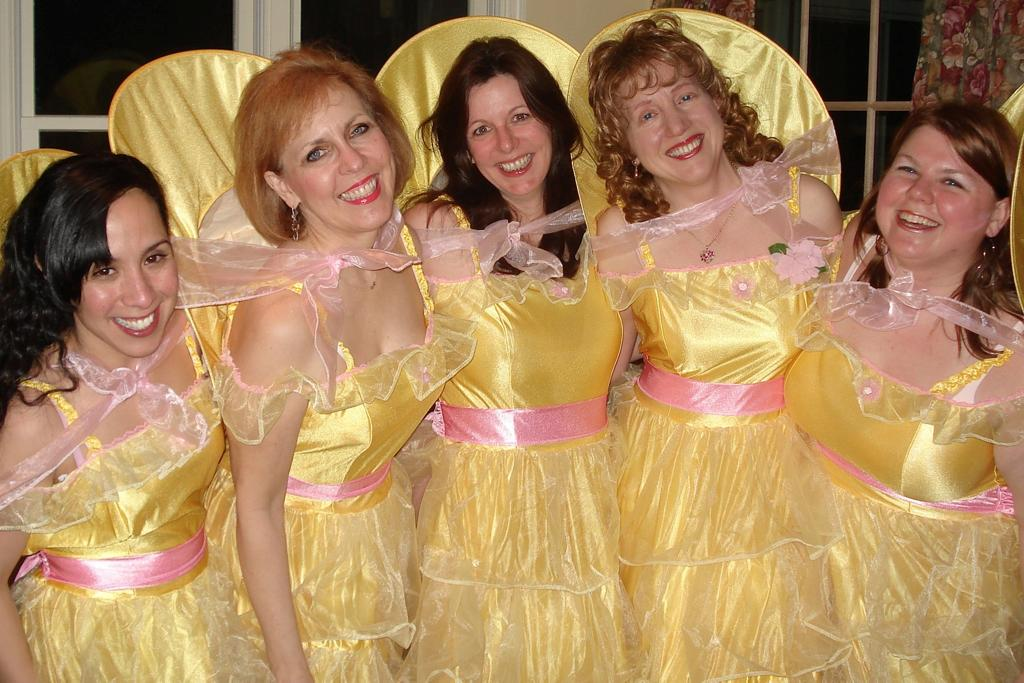face: (876, 112, 996, 262), (74, 186, 176, 356), (282, 74, 394, 228), (614, 60, 724, 180), (466, 68, 552, 194)
